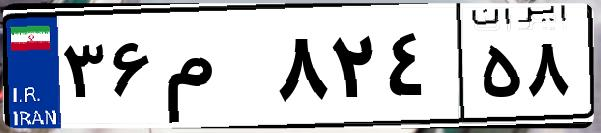2: (330, 28, 385, 110)
3: (57, 26, 110, 100)
4: (385, 28, 445, 110)
5: (475, 38, 525, 113)
6: (110, 28, 158, 98)
8: (270, 28, 330, 110), (525, 38, 570, 115)
م: (158, 20, 270, 120)
